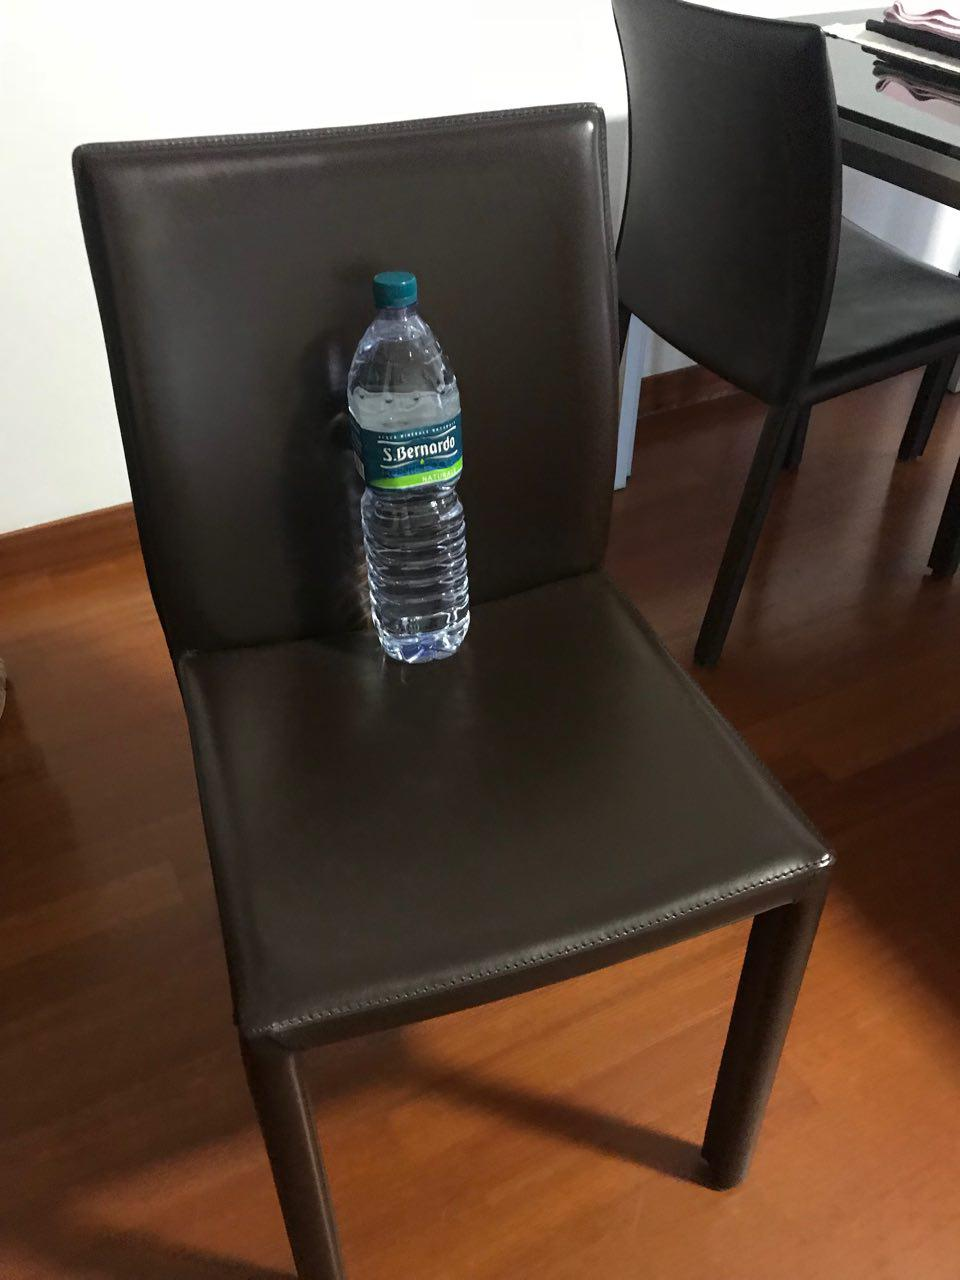san_bernardo: (345, 270, 472, 666)
